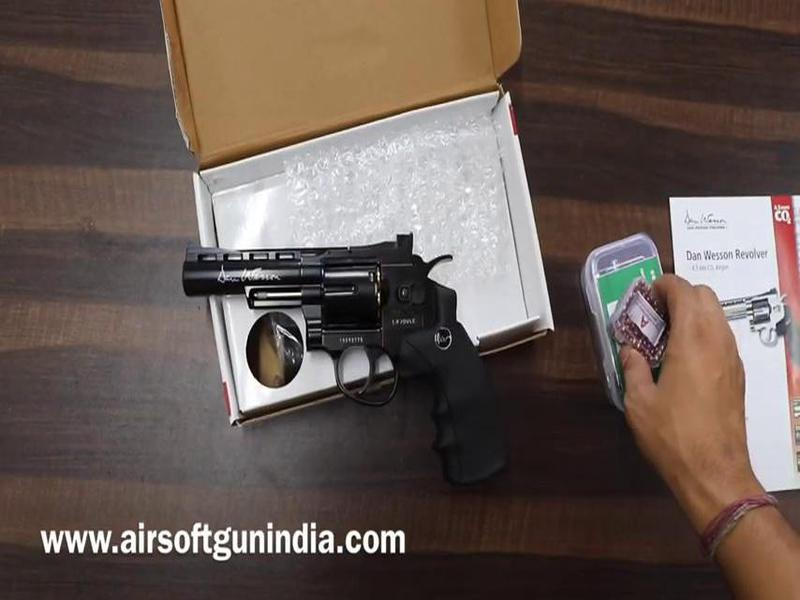Revolver: (178, 228, 545, 429)
